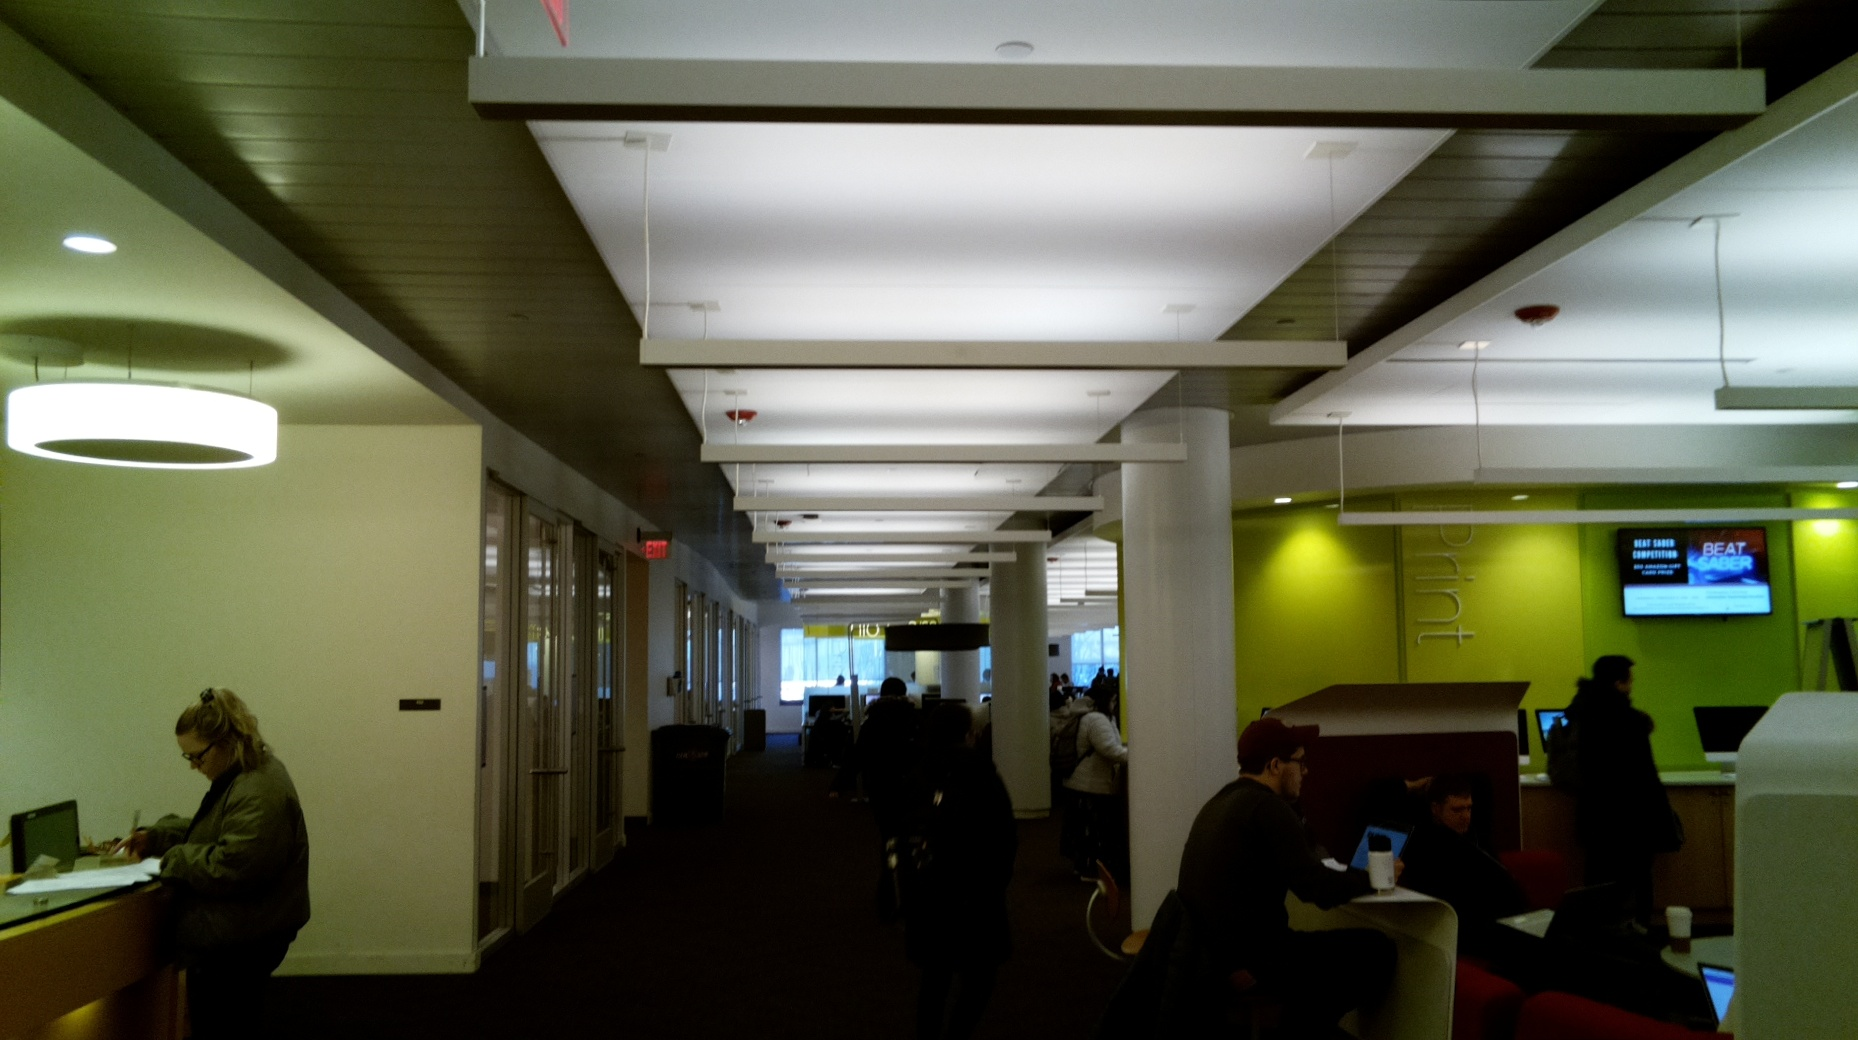exit sign: (637, 539, 675, 563)
